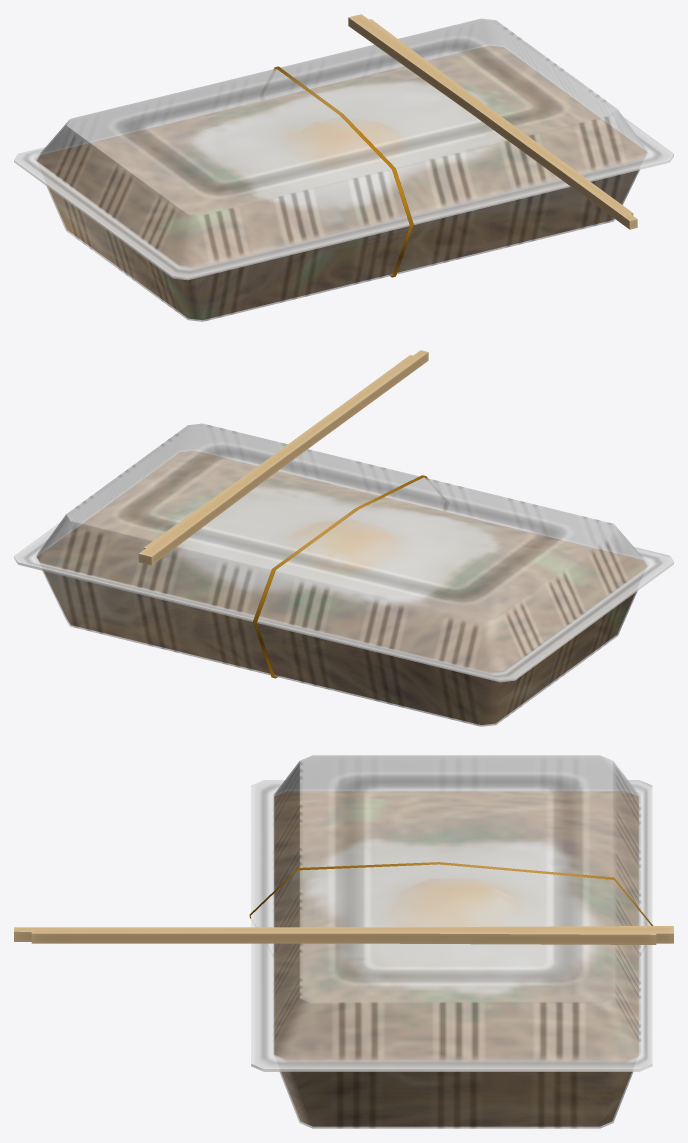
The model's file is jsf_Pack_FriedNoodles_02.fbx.
3 views of the same model, one above another, from view 1: azimuth 30°, elevation 25°; view 2: azimuth 150°, elevation 25°; view 3: azimuth 270°, elevation 25° (orthographic). The views are drawn at different scales.
Parts seen in each view (by area): view 1: Lid, FriedNoodles_02, Pack, DisposableChopsticks_01, DisposableChopsticks_02, RubberBand; view 2: FriedNoodles_02, Lid, Pack, DisposableChopsticks_01, DisposableChopsticks_02, RubberBand; view 3: Lid, FriedNoodles_02, Pack, DisposableChopsticks_01, DisposableChopsticks_02, RubberBand.
Boxes of the visible parts, x1,y1,x2,y2 form: Lid: [14, 18, 673, 278]; FriedNoodles_02: [37, 46, 646, 320]; Pack: [14, 120, 673, 321]; DisposableChopsticks_01: [348, 14, 633, 215]; DisposableChopsticks_02: [360, 19, 637, 229]; RubberBand: [273, 66, 413, 277]; FriedNoodles_02: [37, 451, 646, 724]; Lid: [14, 423, 673, 680]; Pack: [14, 525, 673, 726]; DisposableChopsticks_01: [138, 355, 417, 565]; DisposableChopsticks_02: [143, 350, 428, 549]; RubberBand: [253, 475, 428, 678]; Lid: [251, 755, 652, 1070]; FriedNoodles_02: [274, 791, 638, 1126]; Pack: [251, 781, 652, 1128]; DisposableChopsticks_01: [31, 926, 673, 943]; DisposableChopsticks_02: [14, 927, 656, 944]; RubberBand: [249, 862, 652, 925].
Size of the model in its own units: 21.3 by 4.75 by 20.55.
